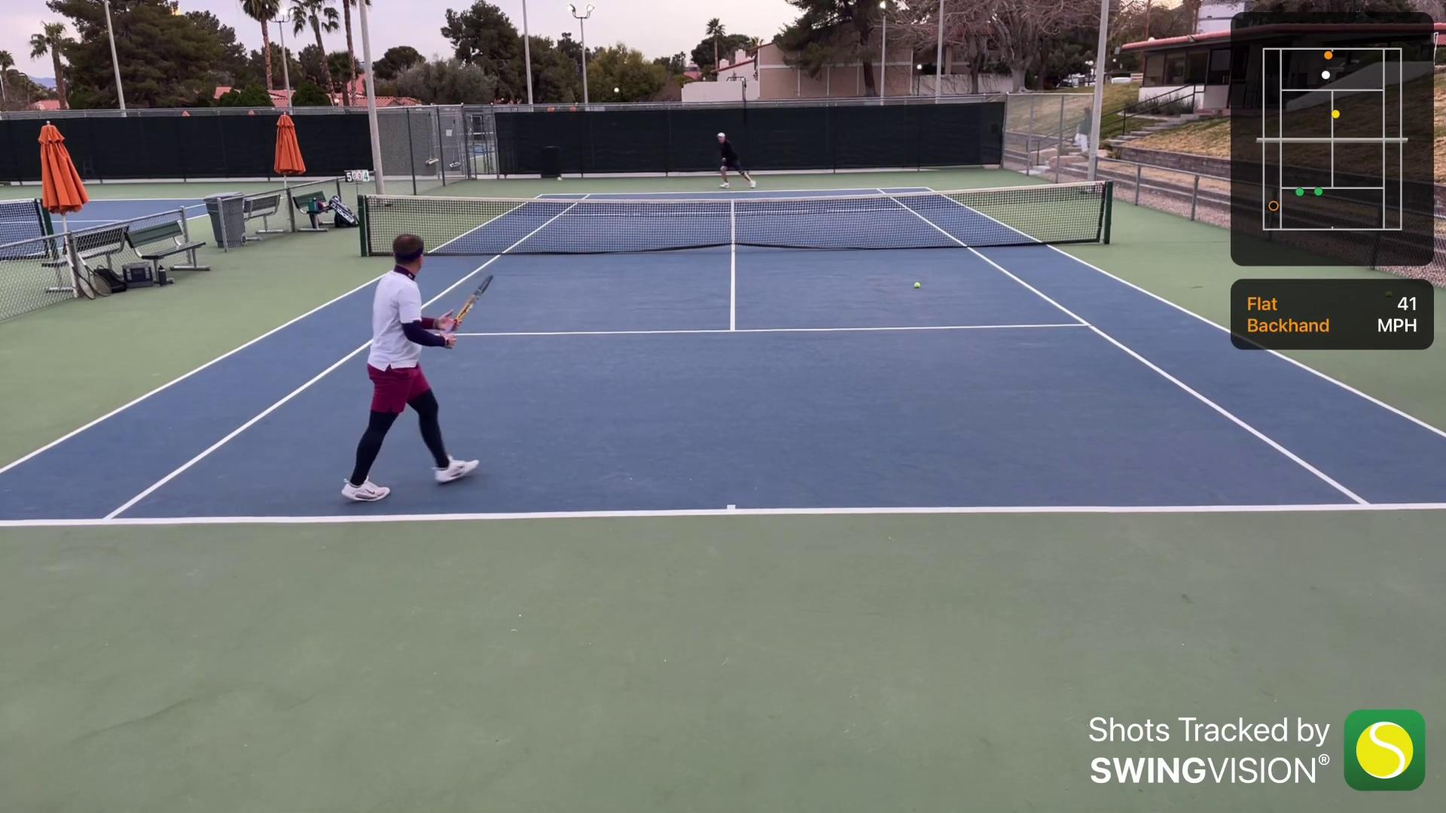ball: (555, 176, 562, 183), (914, 281, 919, 286)
